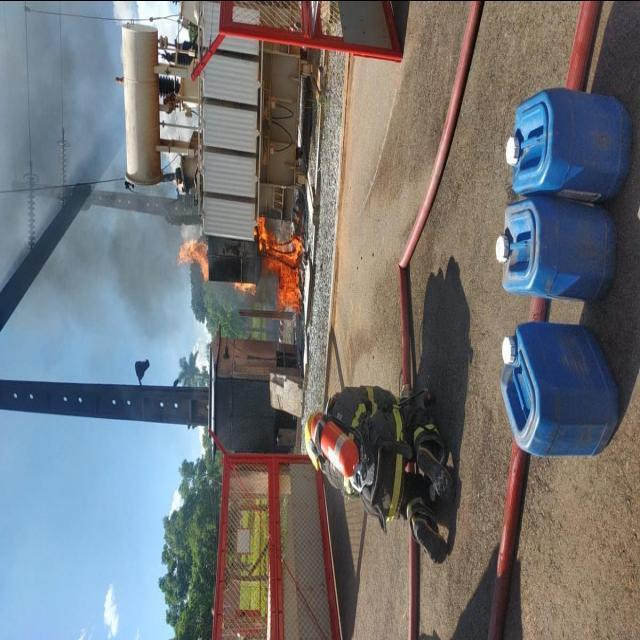Fire: (260, 212, 302, 316), (176, 230, 210, 282), (232, 279, 254, 297)
